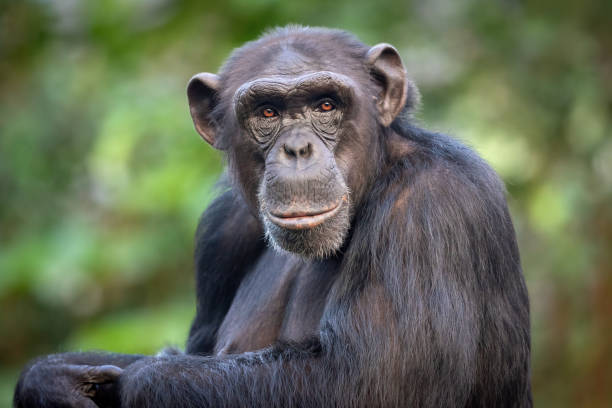chimpanzee: (160, 10, 422, 285)
